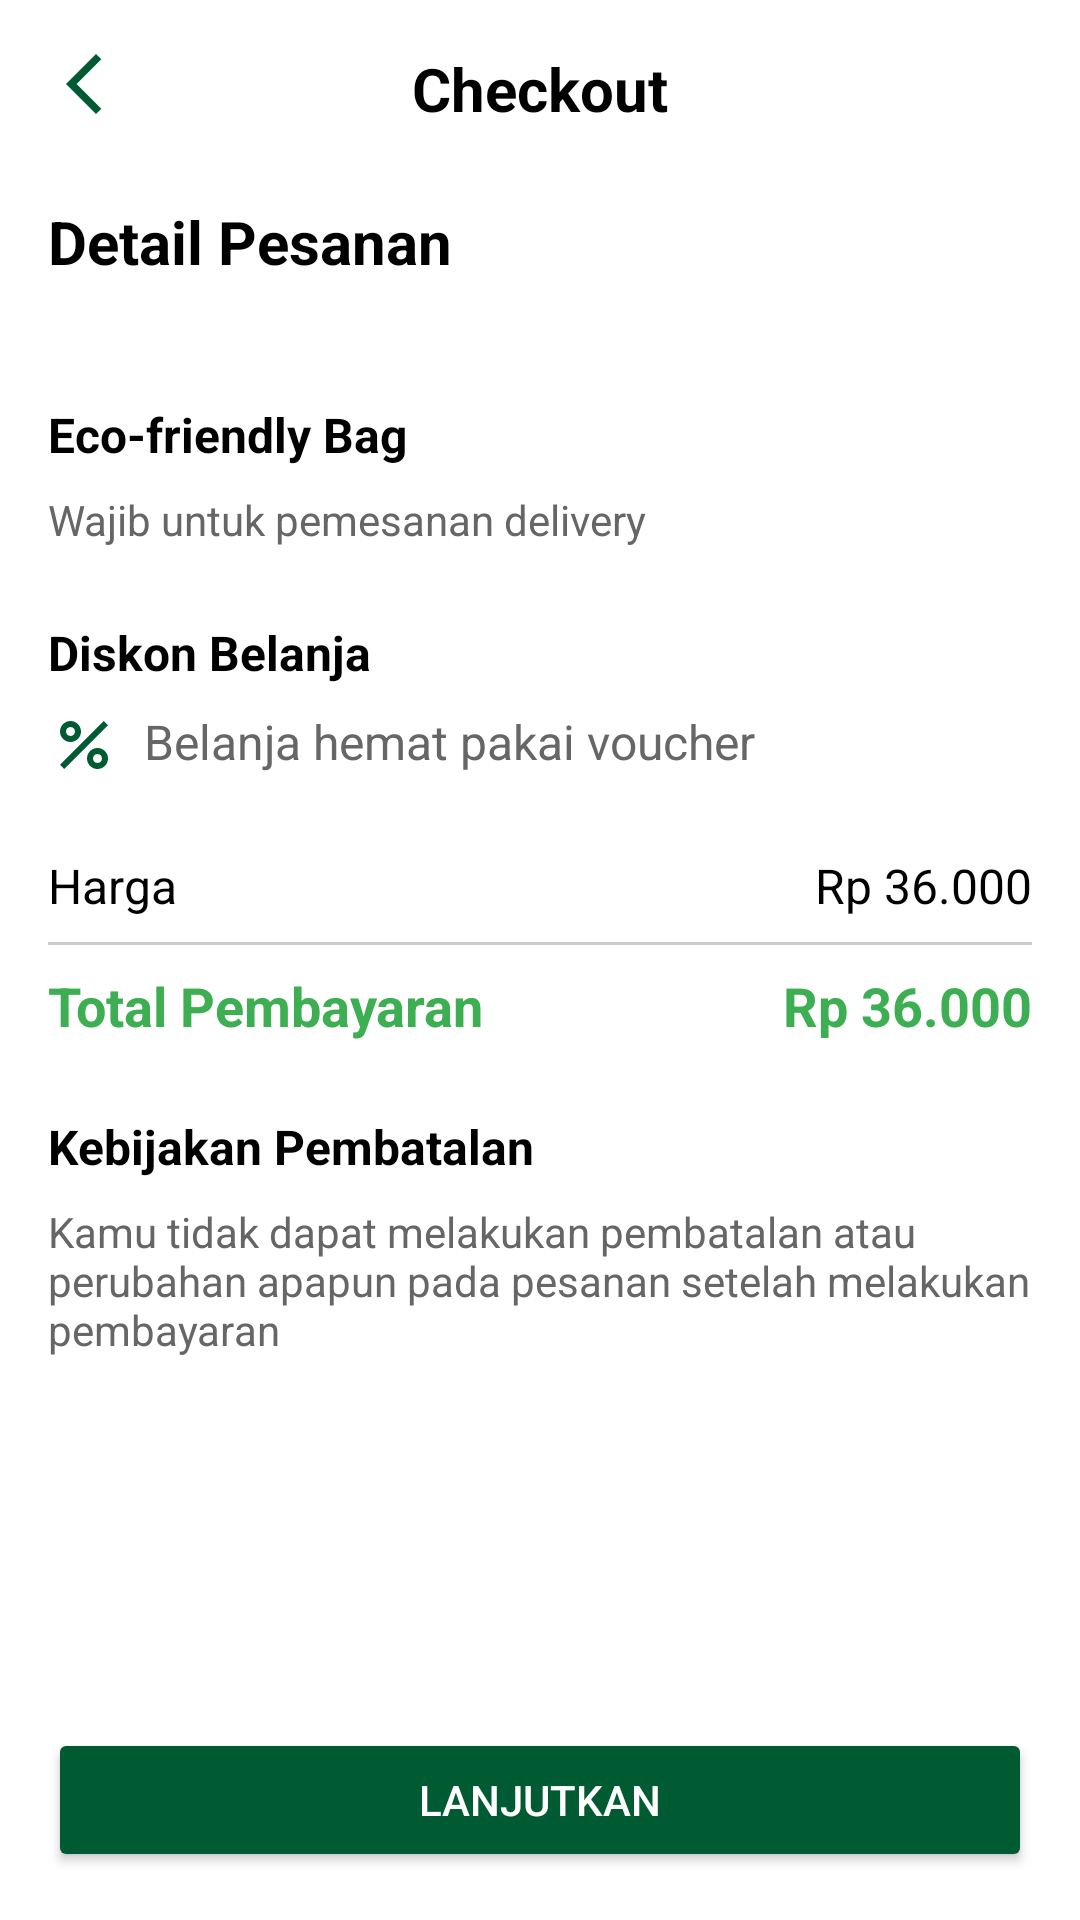

Icons on this 1080×1920 Android screen, each with its box as [x1,y1,x2,y2]:
Back: [66,54,101,114]
discount: [60,721,108,769]
